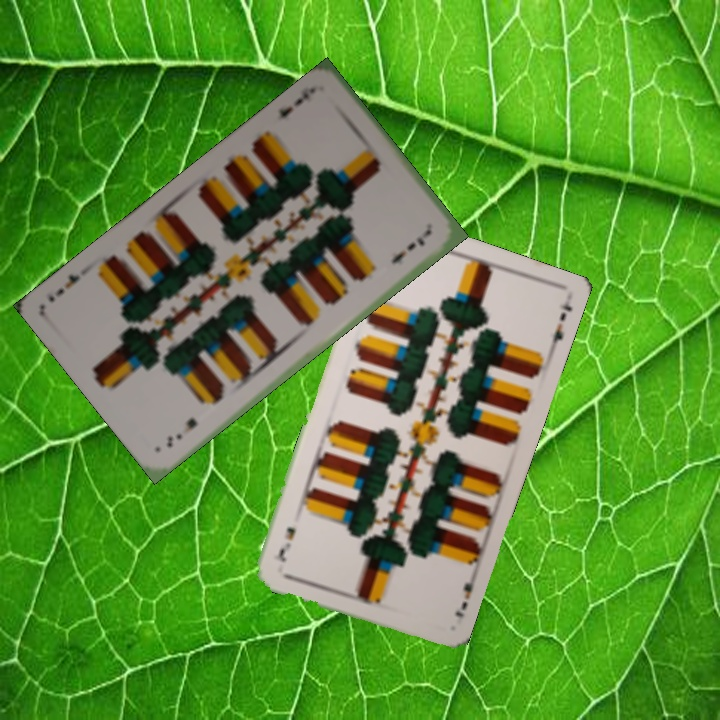E7: (274, 83, 318, 121), (450, 571, 480, 621), (162, 414, 200, 451)
